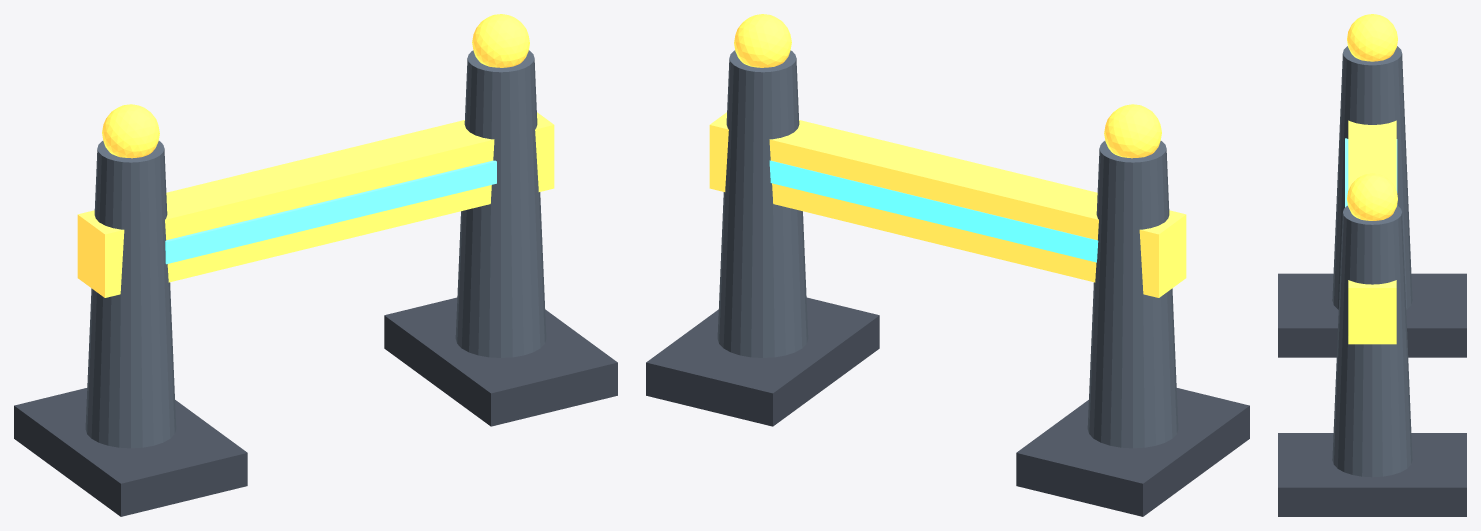
Rendered from AXM-BARRIER-001.glb.
3 views of the same model, side by side, from view 1: azimuth 30°, elevation 25°; view 2: azimuth 150°, elevation 25°; view 3: azimuth 270°, elevation 25° (orthographic). The views are drawn at different scales.
Visible parts, largest first — view 1: beam, post__l00, post__l01, foot__l01, foot__l00, beam_insert, light__l01, light__l00; view 2: beam, post__l00, post__l01, foot__l01, foot__l00, beam_insert, light__l01, light__l00; view 3: post__l01, foot__l01, foot__l00, post__l00, beam, light__l00, light__l01, beam_insert.
Part boxes in pixels (x1,y1,x2,y2): beam: [77, 112, 554, 297]; post__l00: [85, 141, 176, 448]; post__l01: [455, 50, 546, 357]; foot__l01: [384, 297, 617, 426]; foot__l00: [14, 388, 247, 516]; beam_insert: [165, 160, 496, 264]; light__l01: [472, 14, 529, 67]; light__l00: [102, 104, 159, 158]; beam: [709, 112, 1186, 297]; post__l00: [1087, 141, 1178, 448]; post__l01: [717, 50, 808, 357]; foot__l01: [646, 297, 879, 426]; foot__l00: [1016, 388, 1249, 516]; beam_insert: [769, 160, 1098, 262]; light__l01: [734, 14, 791, 67]; light__l00: [1104, 104, 1161, 158]; post__l01: [1332, 205, 1412, 477]; foot__l01: [1278, 433, 1466, 516]; foot__l00: [1278, 273, 1466, 357]; post__l00: [1332, 46, 1412, 309]; beam: [1348, 120, 1396, 344]; light__l00: [1347, 14, 1397, 61]; light__l01: [1347, 173, 1397, 220]; beam_insert: [1345, 138, 1397, 207].
Bounding box in the file's own units: 1.88 × 1.28 × 0.7.
